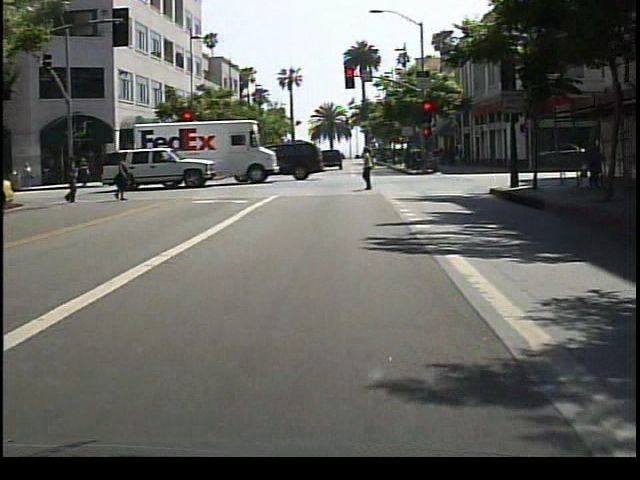person: (579, 136, 608, 196), (108, 151, 134, 205), (358, 146, 383, 193), (62, 157, 85, 206)
